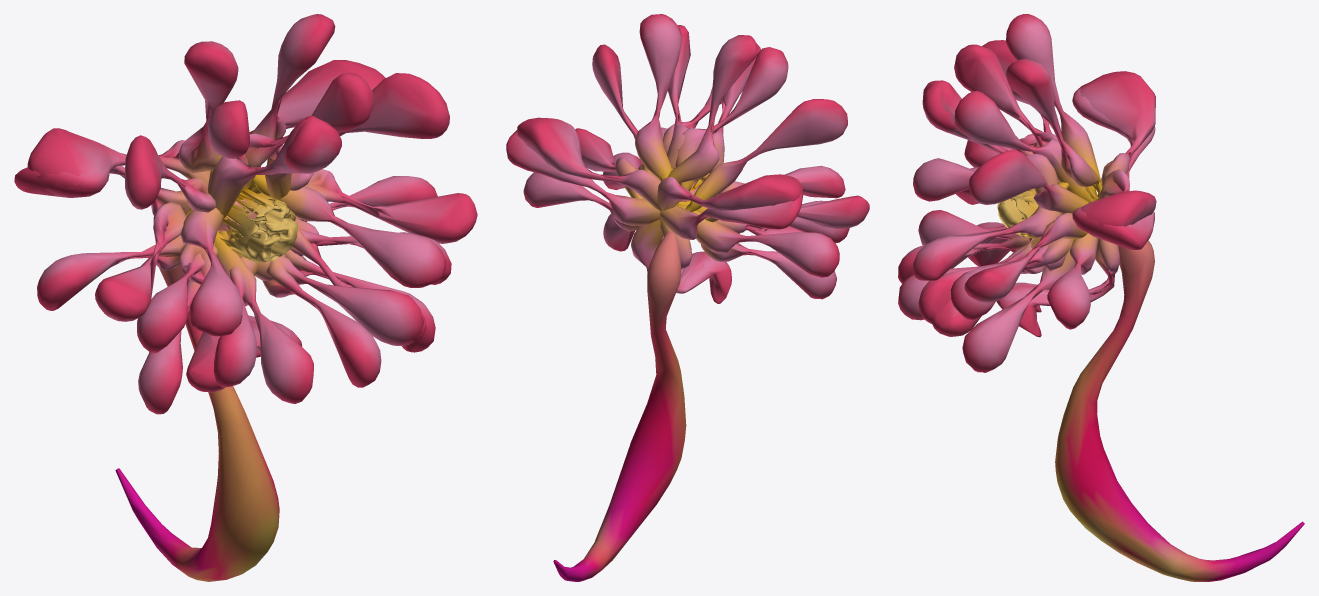
3 renders of one model, left to right at view 1: azimuth 30°, elevation 25°; view 2: azimuth 150°, elevation 25°; view 3: azimuth 270°, elevation 25°, orthographic. The views are drawn at different scales.
Parts seen in each view (by area): view 1: LOD 4_6177960798552739207_21c40791c56367b44a9c269bf2c0023c; view 2: LOD 4_6177960798552739207_21c40791c56367b44a9c269bf2c0023c; view 3: LOD 4_6177960798552739207_21c40791c56367b44a9c269bf2c0023c.
Boxes of the visible parts, x1,y1,x2,y2 form: LOD 4_6177960798552739207_21c40791c56367b44a9c269bf2c0023c: (14, 14, 477, 581); LOD 4_6177960798552739207_21c40791c56367b44a9c269bf2c0023c: (506, 14, 869, 581); LOD 4_6177960798552739207_21c40791c56367b44a9c269bf2c0023c: (898, 14, 1304, 581).
Bounding box in the file's own units: 1.48 × 2.23 × 1.56.
